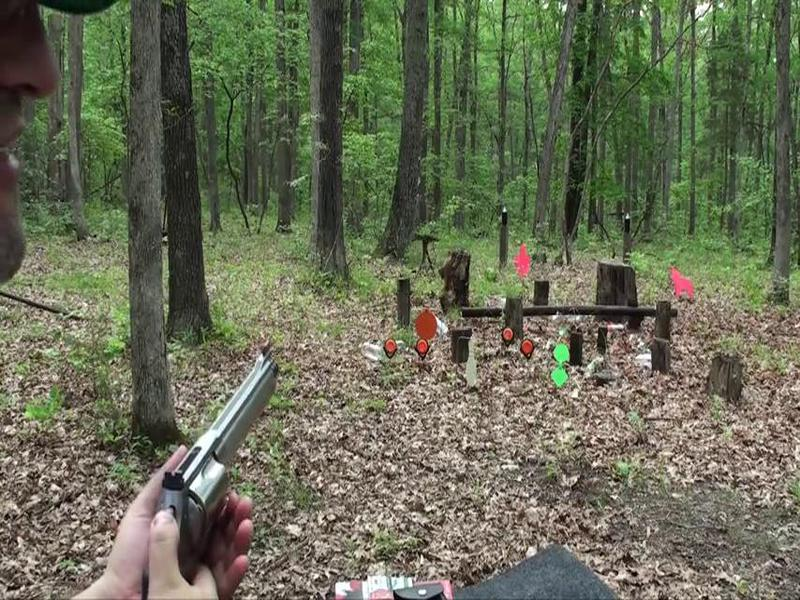Revolver: (138, 324, 318, 584)
